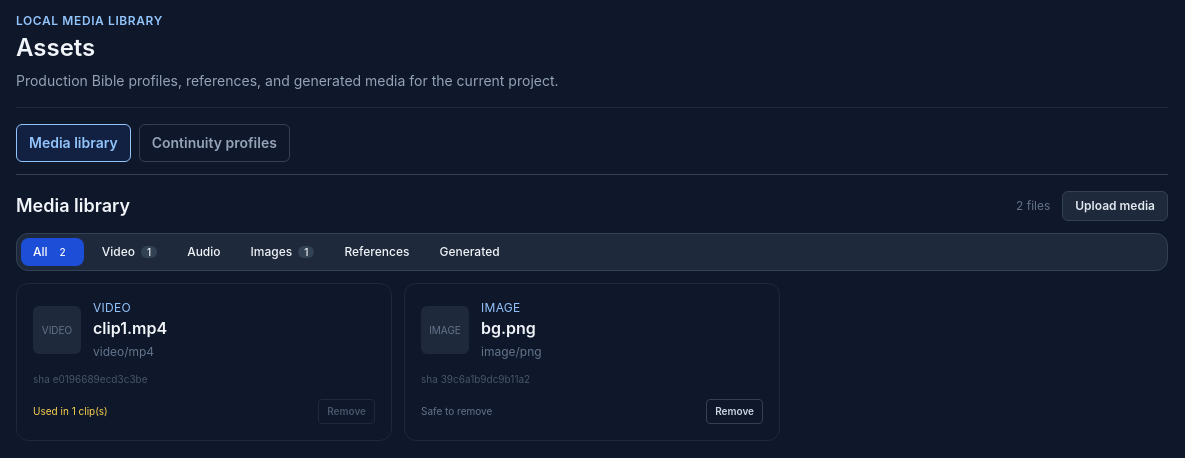
Scenario: AssetsPage navigation › filters assets by type and blocks deletion of assets placed on timeline
Expected: the heading "clip1.mp4" is shown, [93, 316, 167, 340]
Expected: the heading "bg.png" is shown, [481, 316, 542, 340]
Note: Filter by Images
Click the tab "Images1".
click(283, 252)  # box [239, 238, 326, 266]
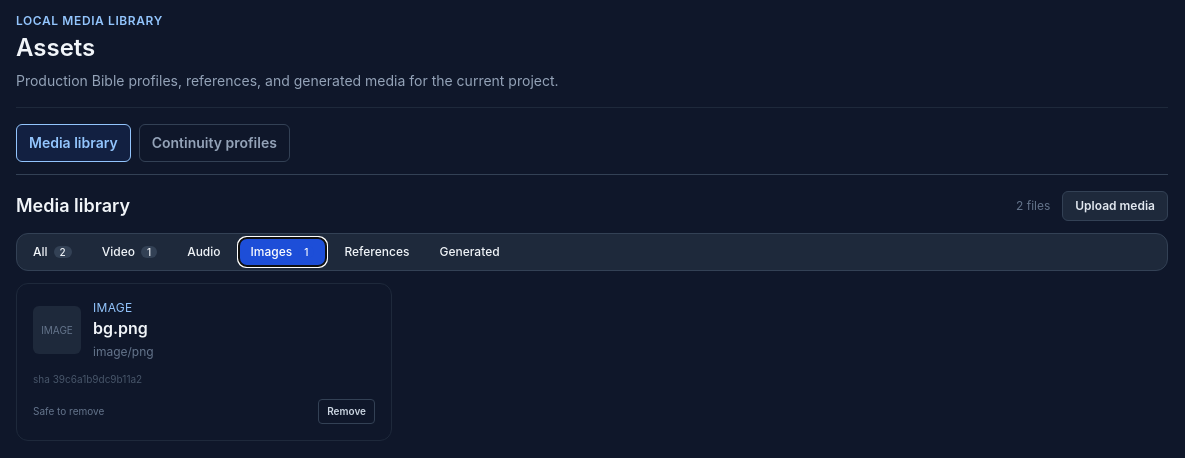
Expected: the heading "bg.png" is shown, [93, 316, 154, 340]
Now the heading "clip1.mp4" is gone
